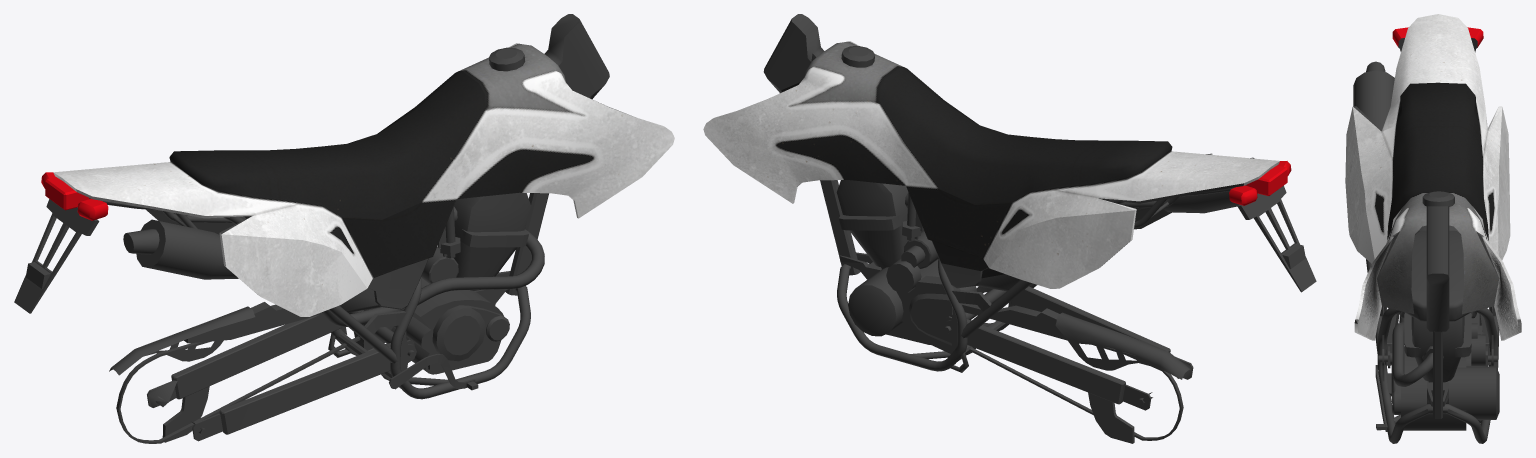
The model's file is motorbike.fbx.
3 views of the same model, side by side, from view 1: azimuth 30°, elevation 25°; view 2: azimuth 150°, elevation 25°; view 3: azimuth 270°, elevation 25° (orthographic). The views are drawn at different scales.
Visible parts, largest first — view 1: Motorbike_Motorbike_0; view 2: Motorbike_Motorbike_0; view 3: Motorbike_Motorbike_0.
Part boxes in pixels (x1,y1,x2,y2): Motorbike_Motorbike_0: (14,14,674,443); Motorbike_Motorbike_0: (703,14,1316,443); Motorbike_Motorbike_0: (1345,14,1521,443).
Bounding box in the file's own units: 0.4384 × 1.56 × 0.8556.
